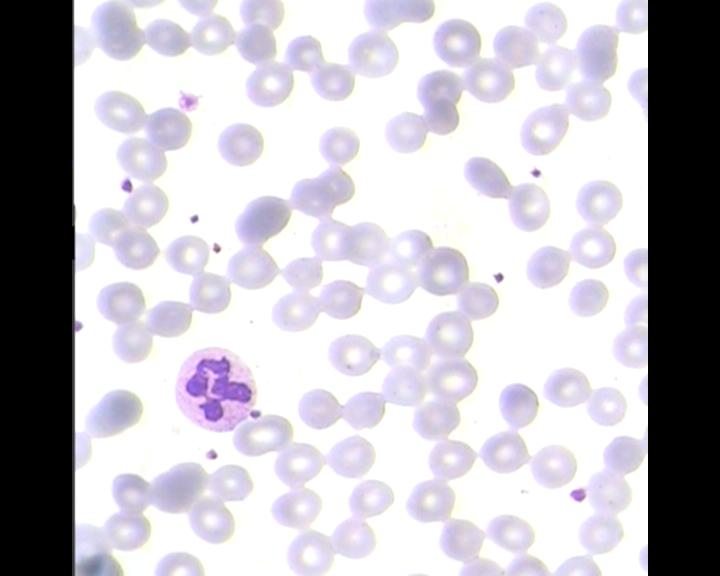neut: (170, 347, 254, 435)
